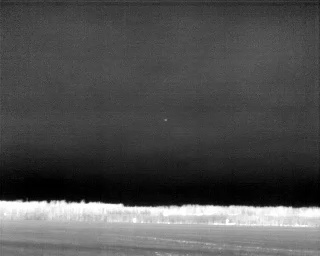HELICOPTER: (162, 116, 170, 124)
